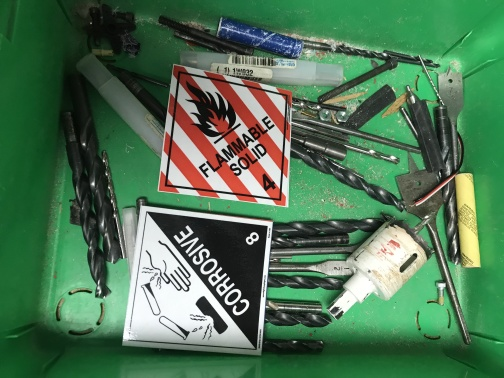Corrosive: (122, 206, 274, 355)
FlammableSolid: (158, 64, 294, 208)
